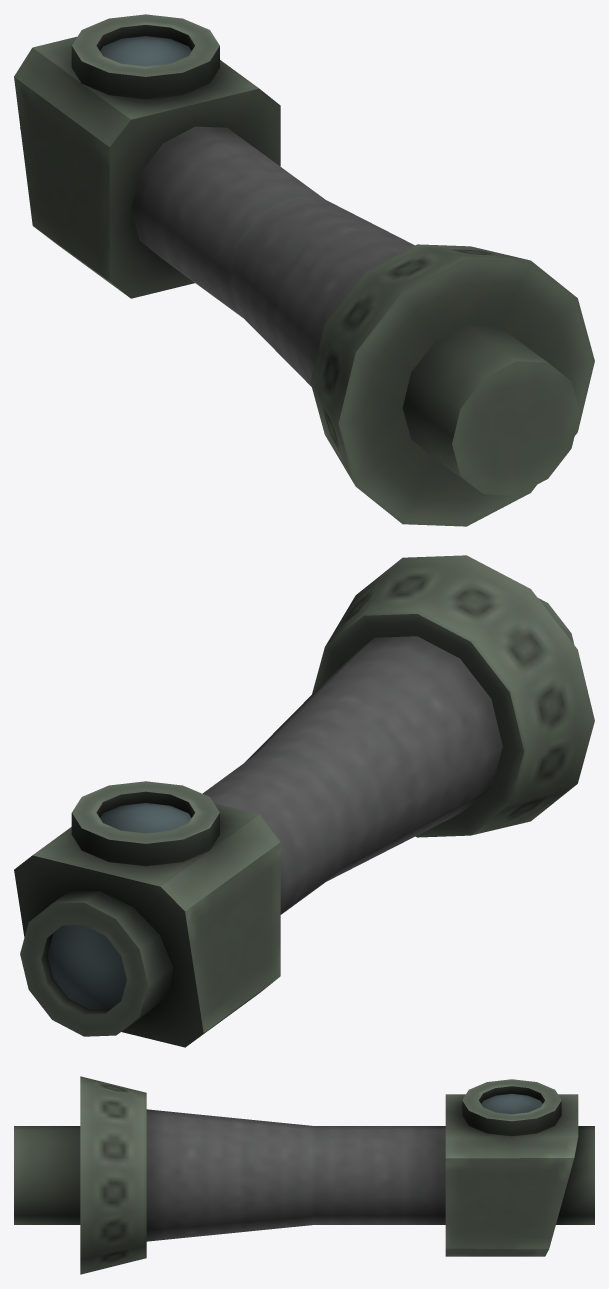
The model's file is octans_periscope_srf_1.obj.
3 renders of one model, top to bottom at view 1: azimuth 30°, elevation 25°; view 2: azimuth 150°, elevation 25°; view 3: azimuth 270°, elevation 25°, orthographic. The views are drawn at different scales.
Parts seen in each view (by area): view 1: mesh; view 2: mesh; view 3: mesh.
Part boxes in pixels (x1,y1,x2,y2): mesh: (14,14,594,526); mesh: (14,555,594,1047); mesh: (14,1076,594,1274).
Bounding box in the file's own units: 0.15 × 0.15 × 0.4375.
1 material, 1 textured.
